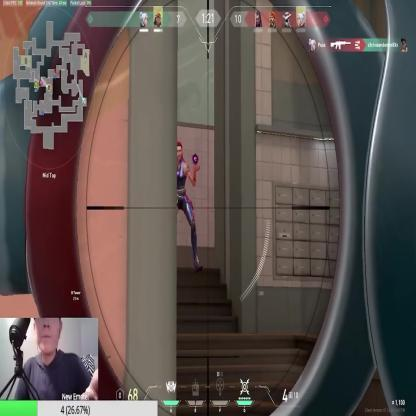enemy: (166, 140, 202, 271)
enemy_head: (175, 140, 183, 162)
